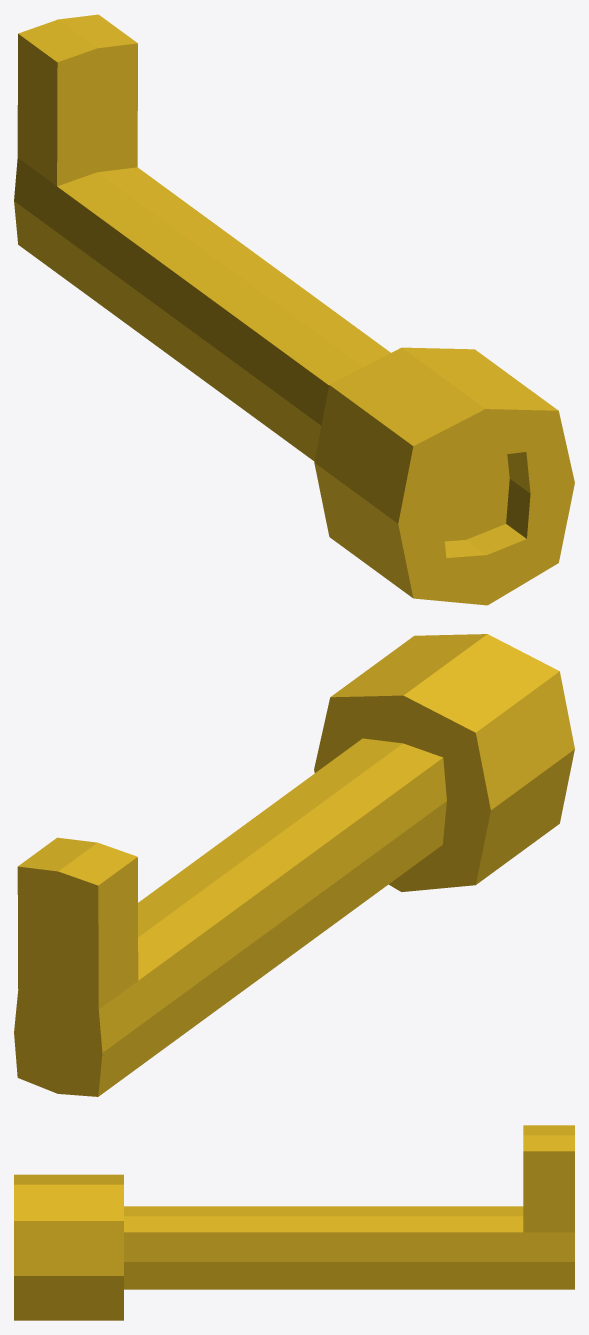
Rendered from key.fbx.
3 renders of one model, top to bottom at view 1: azimuth 30°, elevation 25°; view 2: azimuth 150°, elevation 25°; view 3: azimuth 270°, elevation 25°, orthographic. The views are drawn at different scales.
Parts seen in each view (by area): view 1: Cube; view 2: Cube; view 3: Cube.
Boxes of the visible parts, bbox=[...] form: Cube: bbox=[14, 14, 574, 605]; Cube: bbox=[14, 634, 574, 1096]; Cube: bbox=[14, 1125, 574, 1320].
Bounding box in the file's own units: 3.03 × 4.48 × 12.73.
